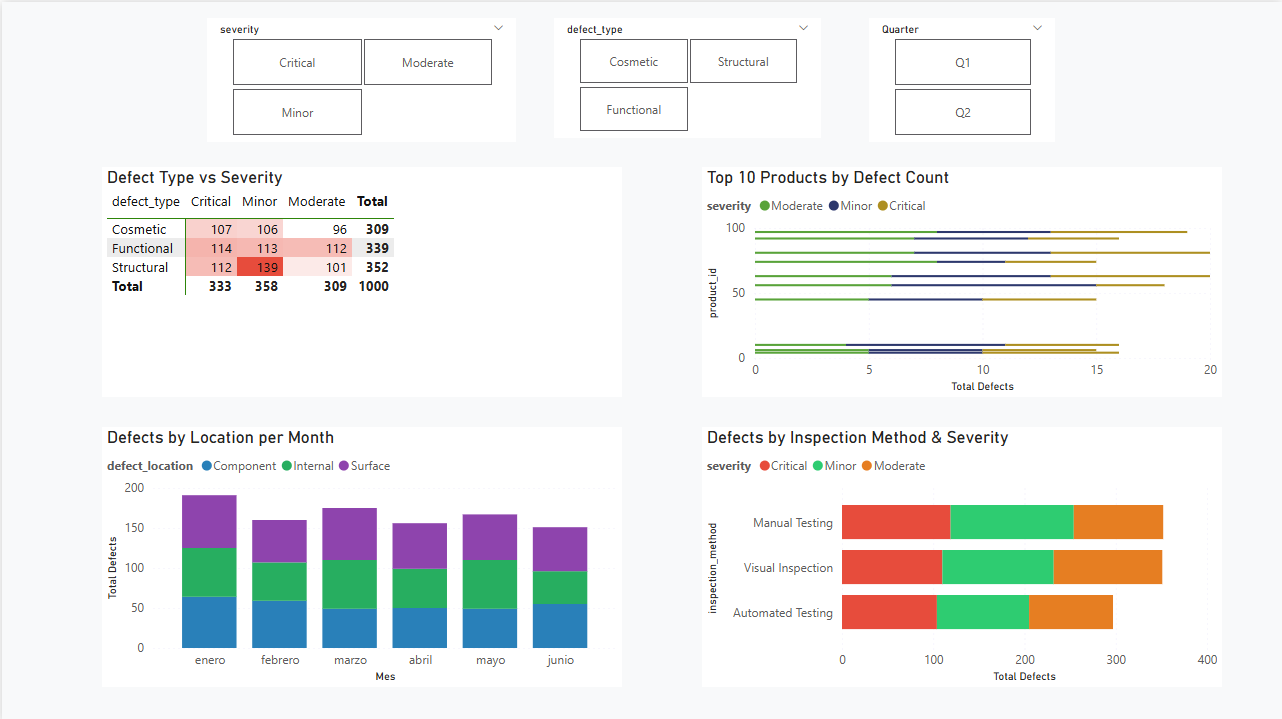

This screenshot's page, from the dashboard's own definition file:
{"tool":"powerbi","page":{"name":"Defect Analysis","canvas":[1280,720],"ordinal":1},"visuals":[{"type":"pivotTable","title":"Defect Type vs Severity","fields":{"Rows":["manufacturing_defects_clean.defect_type"],"Columns":["manufacturing_defects_clean.severity"],"Values":["manufacturing_defects_clean.Total Defects"]},"box":[100,165,520,230],"z":0},{"type":"columnChart","title":"Defects by Location per Month","fields":{"Category":["Fechas.Date.Variación.Jerarquía de fechas.Mes"],"Y":["manufacturing_defects_clean.Total Defects"],"Series":["manufacturing_defects_clean.defect_location"]},"box":[100,425,520,260],"z":1000},{"type":"barChart","title":"Top 10 Products by Defect Count","fields":{"Category":["manufacturing_defects_clean.product_id"],"Y":["manufacturing_defects_clean.Total Defects"],"Series":["manufacturing_defects_clean.severity"]},"box":[700,165,520,230],"z":3000},{"type":"barChart","title":"Defects by Inspection Method & Severity","fields":{"Category":["manufacturing_defects_clean.inspection_method"],"Y":["manufacturing_defects_clean.Total Defects"],"Series":["manufacturing_defects_clean.severity"]},"box":[700,425,520,260],"z":4000},{"type":"slicer","fields":{"Values":["manufacturing_defects_clean.severity"]},"box":[205,16,309,124],"z":5000},{"type":"slicer","fields":{"Values":["manufacturing_defects_clean.defect_type"]},"box":[552,16,267,120],"z":6000},{"type":"slicer","fields":{"Values":["manufacturing_defects_clean.Quarter"]},"box":[867,16,186,124],"z":7000}]}

Visuals, with their boxes in screenshot pixels (x1, y1, x2, y2), scaled from the page's 1280x720 canvas onto the 1282x719 screenshot:
"Defect Type vs Severity" pivotTable: l=100, t=165, r=621, b=394
"Defects by Location per Month" columnChart: l=100, t=424, r=621, b=684
"Top 10 Products by Defect Count" barChart: l=701, t=165, r=1222, b=394
"Defects by Inspection Method & Severity" barChart: l=701, t=424, r=1222, b=684
slicer - manufacturing_defects_clean.severity: l=205, t=16, r=515, b=140
slicer - manufacturing_defects_clean.defect_type: l=553, t=16, r=820, b=136
slicer - manufacturing_defects_clean.Quarter: l=868, t=16, r=1055, b=140
